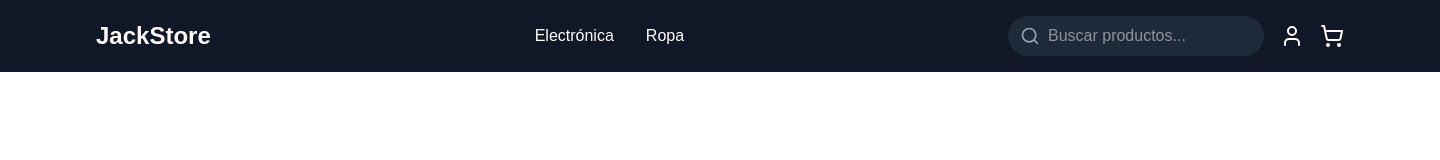
Test: Header Component - Search Functionality › displays 'No se encontraron resultados' when there are no matches
Type "Producto Inexistente" into the field with placeholder "Buscar productos...". click: (1136, 36)
box: [1008,16,1264,56]
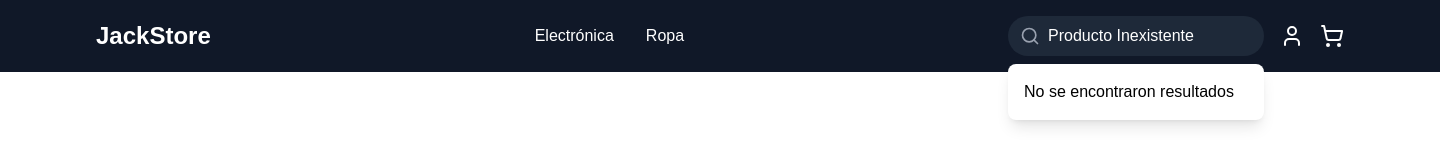
Expected: the text "No se encontraron resultados" is shown, [1024,80,1248,104]
